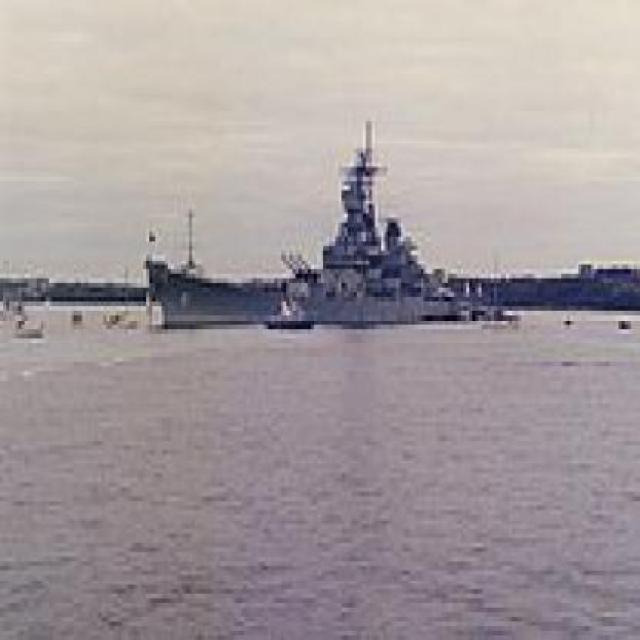warship2: (144, 112, 510, 335)
